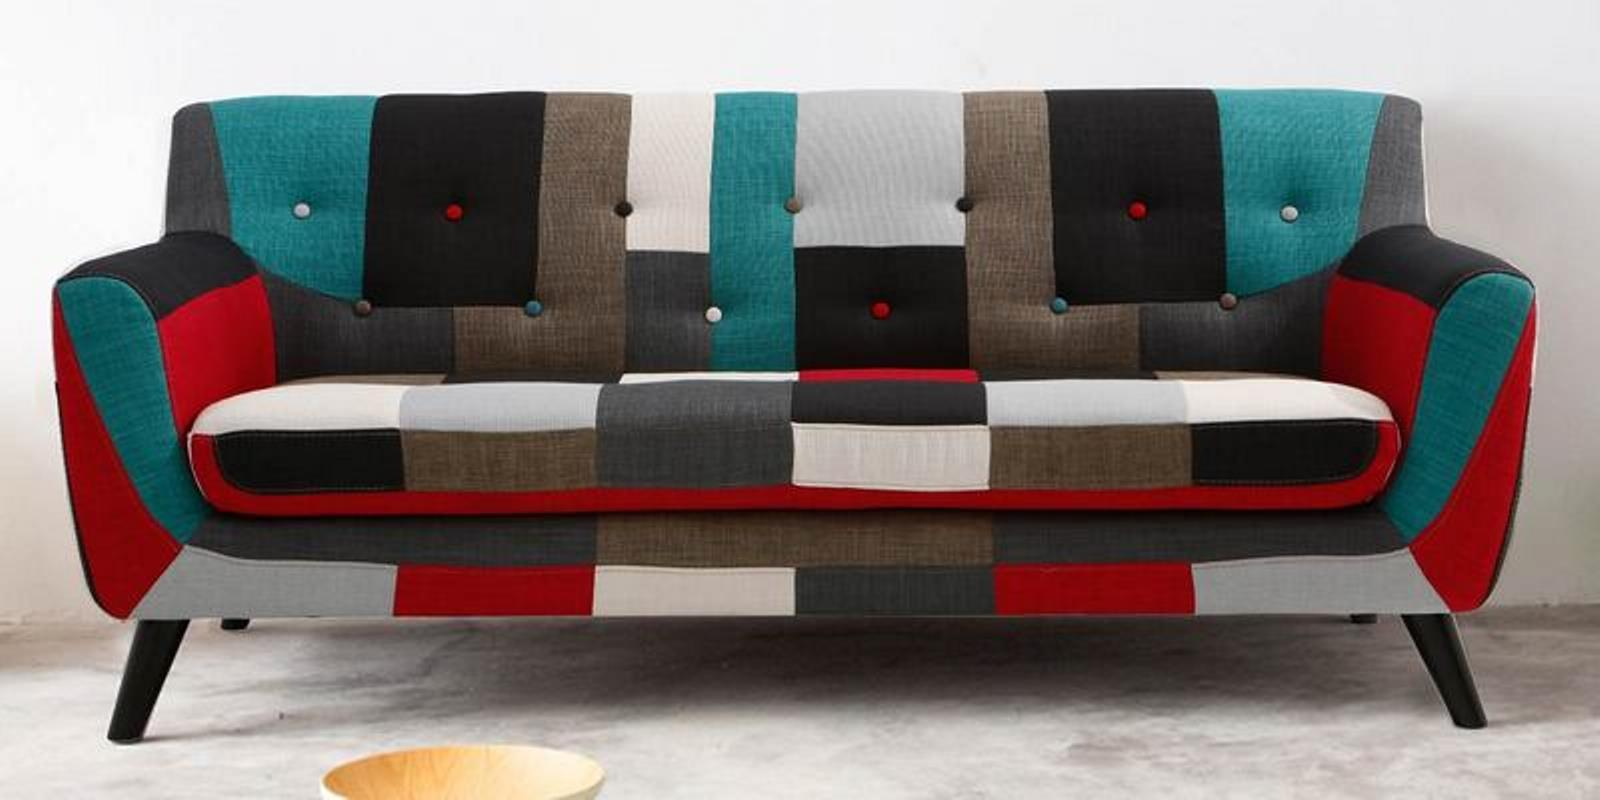Frida Three Seater Sofa in Red Multi Colour by CasaCraft: (45, 81, 1558, 781)
